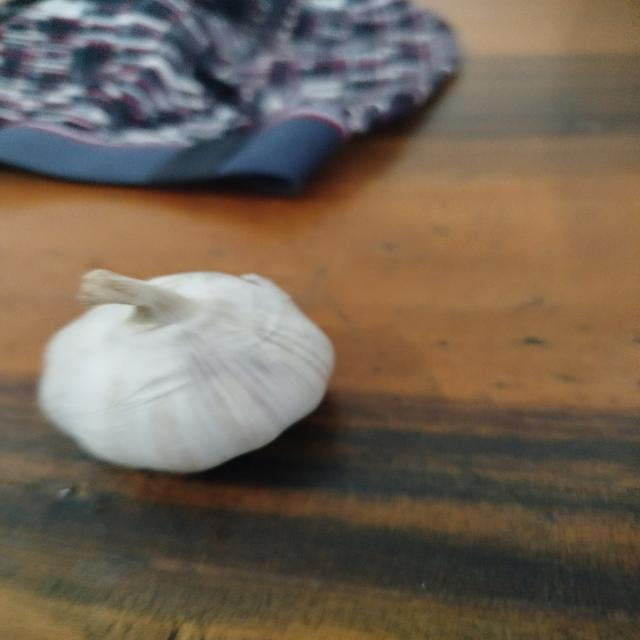garlic: (36, 268, 336, 474)
